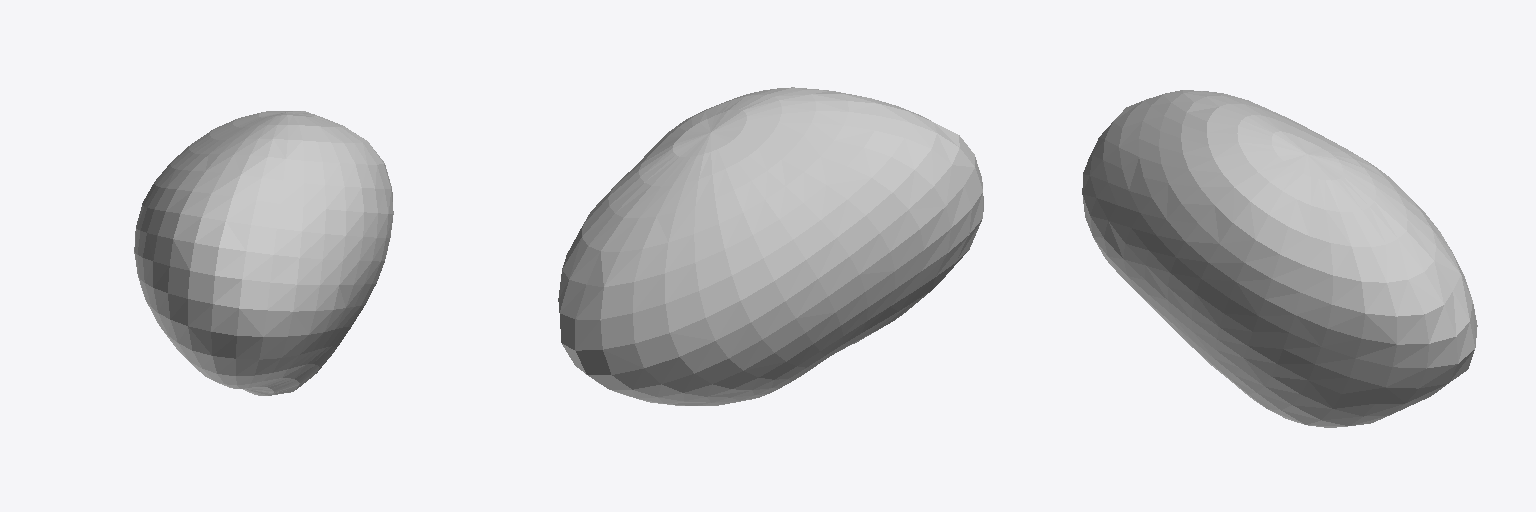
The model's file is Boulder3.obj.
3 views of the same model, side by side, from view 1: azimuth 30°, elevation 25°; view 2: azimuth 150°, elevation 25°; view 3: azimuth 270°, elevation 25° (orthographic).
Visible parts, largest first — view 1: Boulder3; view 2: Boulder3; view 3: Boulder3.
Boxes of the visible parts, x1=… form: Boulder3: x1=134, y1=111, x2=393, y2=395; Boulder3: x1=558, y1=87, x2=983, y2=405; Boulder3: x1=1082, y1=90, x2=1477, y2=427.
Size of the model in its own units: 25.17 by 23.48 by 29.47.